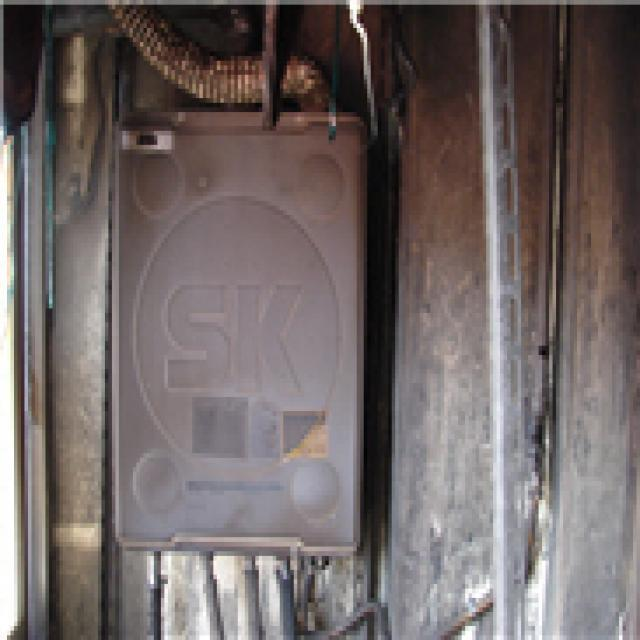Boiler: (56, 46, 420, 590)
